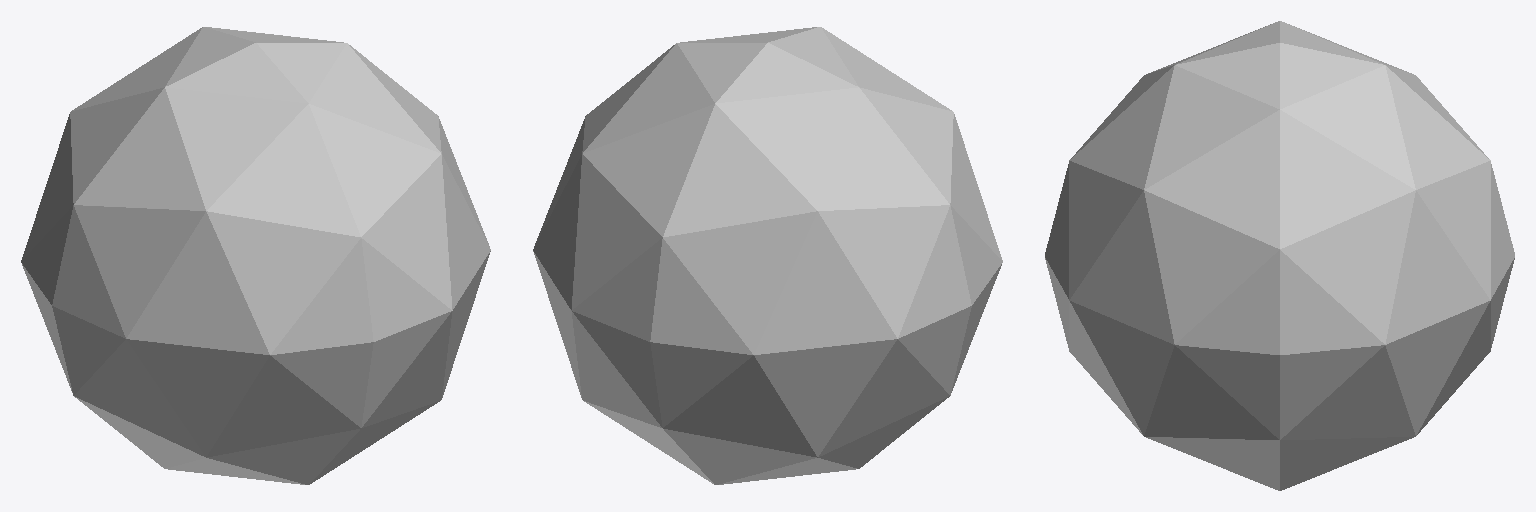
File: balin.obj
3 views of the same model, side by side, from view 1: azimuth 30°, elevation 25°; view 2: azimuth 150°, elevation 25°; view 3: azimuth 270°, elevation 25° (orthographic).
Visible parts, largest first — view 1: Sphere; view 2: Sphere; view 3: Sphere.
Boxes of the visible parts, box(x1,y1,x2,y2) form: Sphere: box(21, 27, 490, 484); Sphere: box(533, 27, 1002, 484); Sphere: box(1045, 21, 1514, 490).
Size of the model in its own units: 6 by 6 by 6.